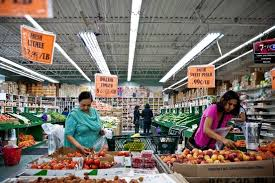Bad: (133, 104, 154, 134)
Good: (64, 90, 244, 152)
